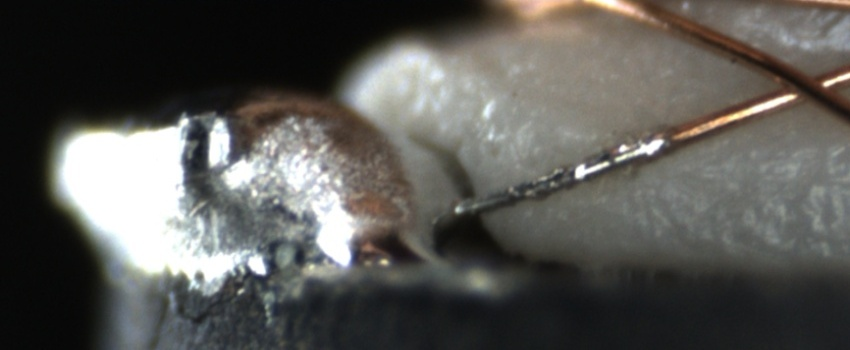CL: (752, 55, 845, 114)
DL: (643, 137, 850, 170)
TS: (448, 128, 672, 220)
